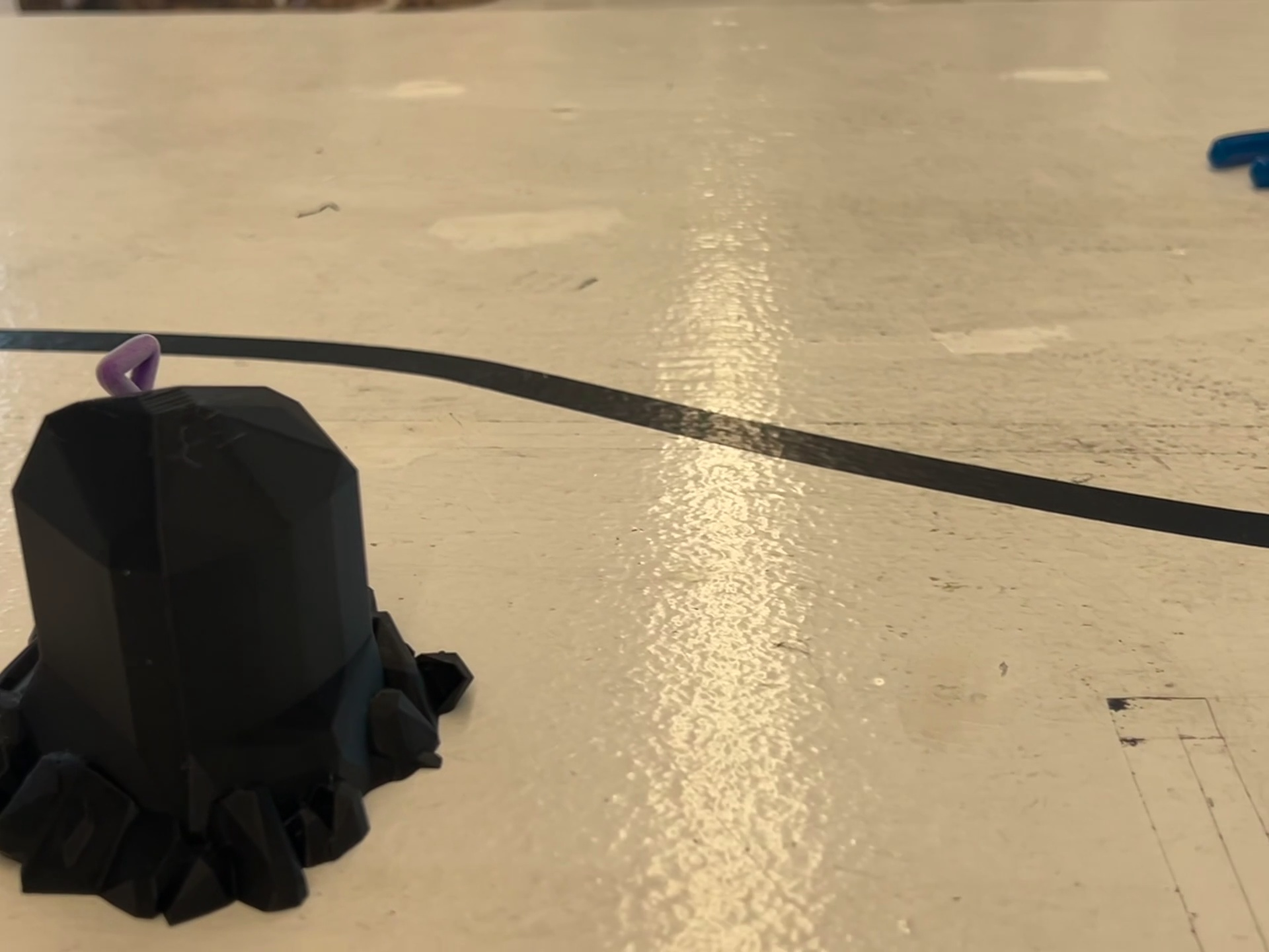teletubby: (96, 334, 161, 396)
